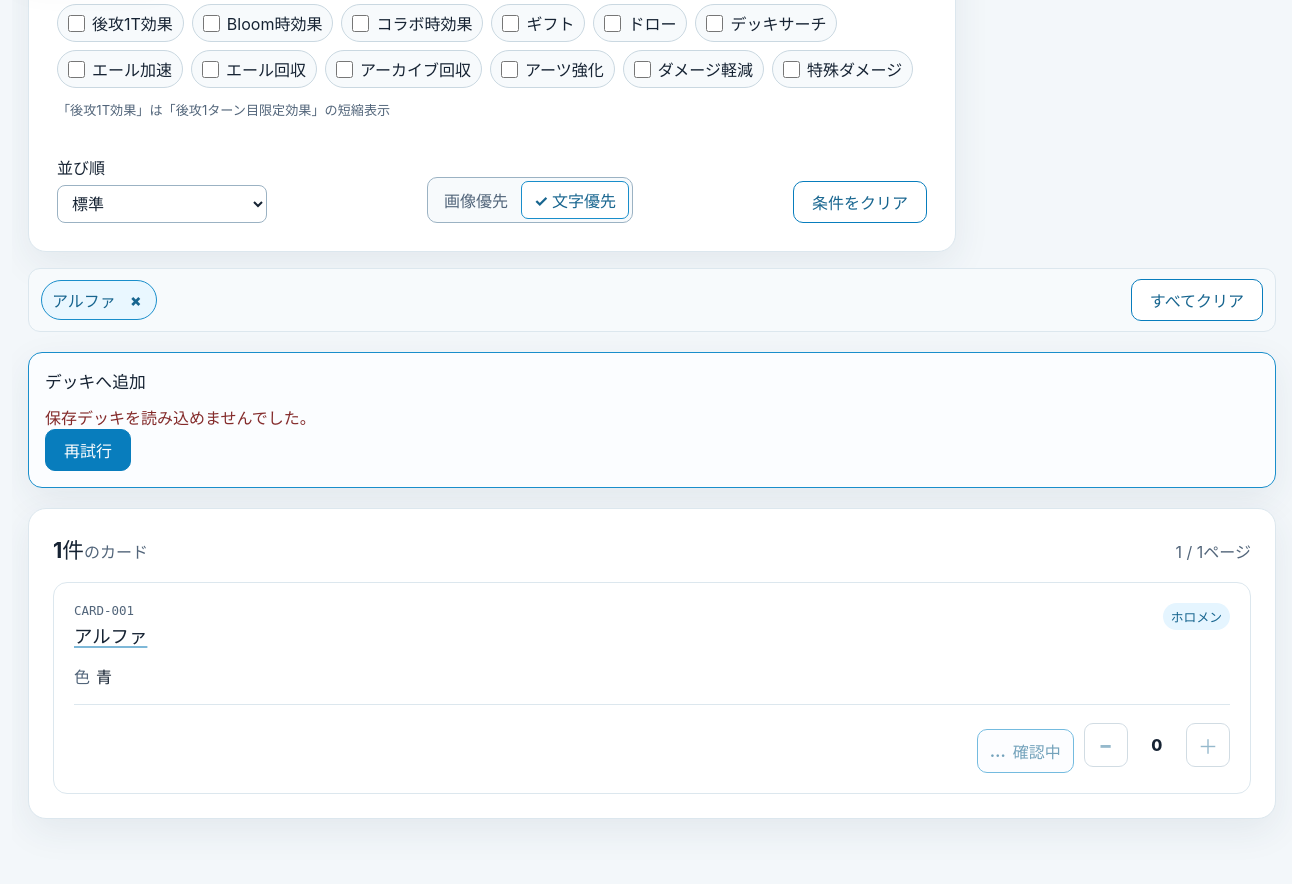
Scenario: CardSearchPage deck quick add › isolates repository load and save failures from card search
(page scrolled)
Check: the message shows "保存デッキを読み込めませんでした。", box [45, 408, 316, 428]
Check: the heading "アルファ" is shown, box [74, 622, 147, 648]
Click the button "再試行" at coordinates (88, 450), box [45, 429, 131, 471]
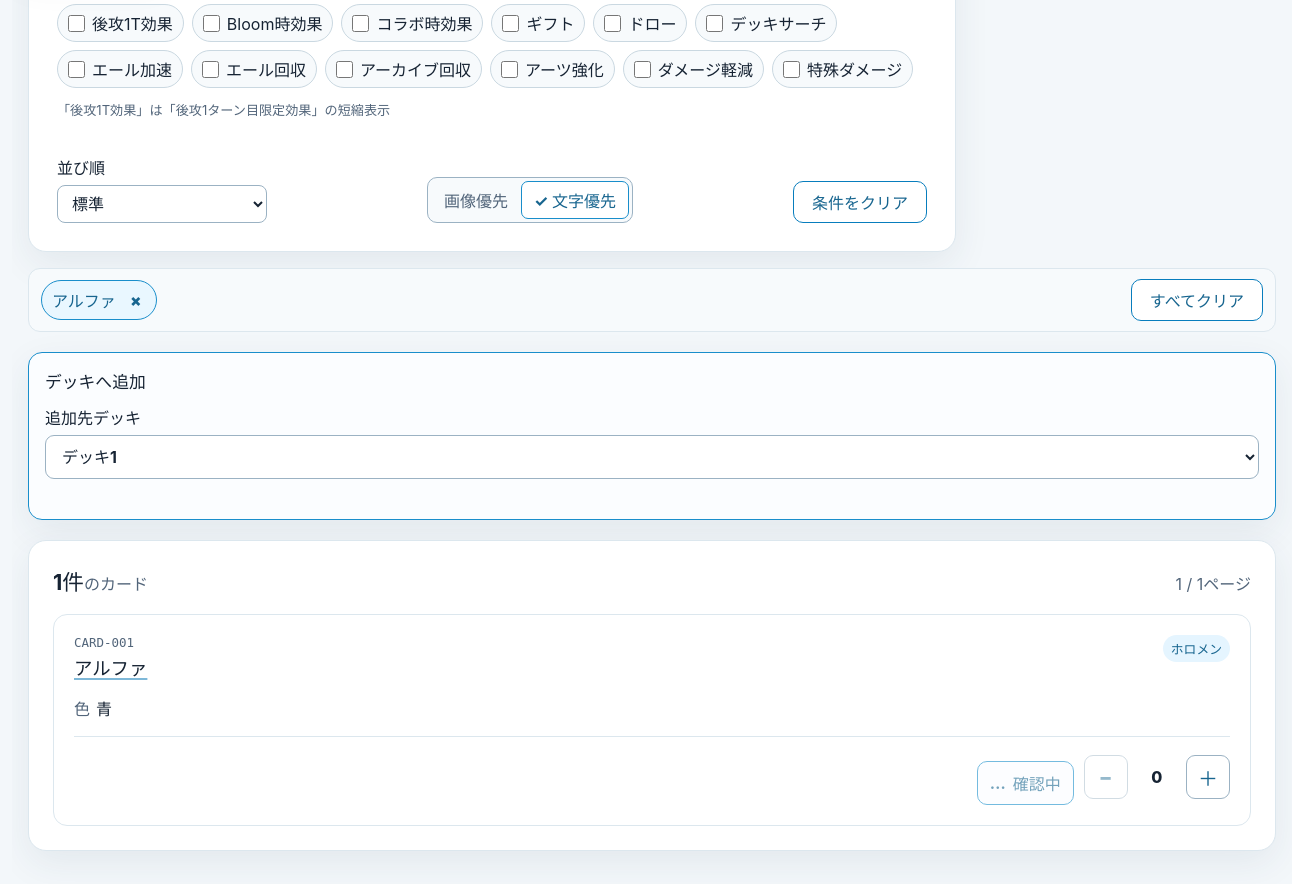
Check: the dropdown labelled "追加先デッキ" is shown, box [45, 435, 1259, 479]
Click the button named "アルファを1枚追加" at coordinates (1208, 777), box [1186, 755, 1230, 799]
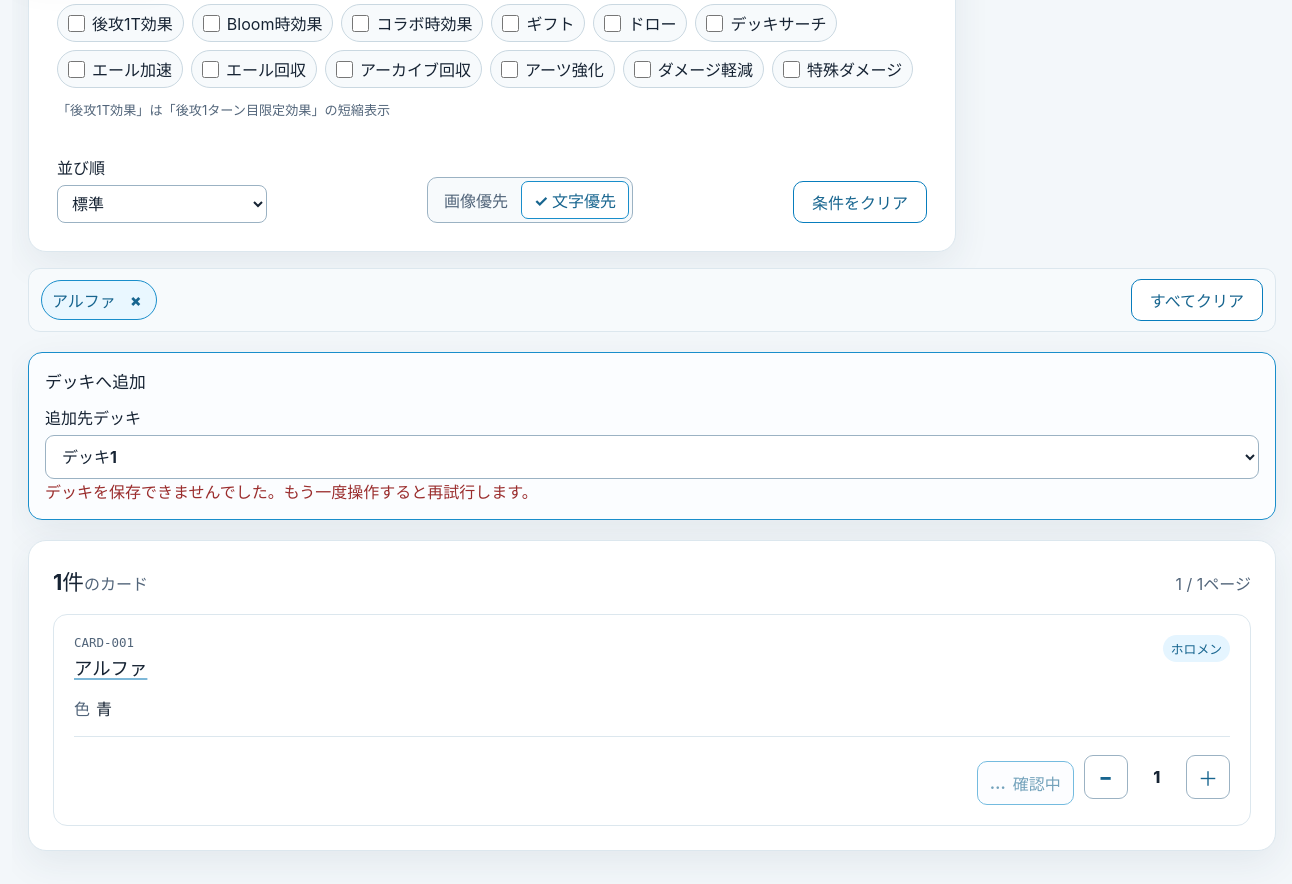
Check: the text "デッキを保存できませんでした。もう一度操作すると再試行します。" is shown, box [45, 482, 538, 502]
